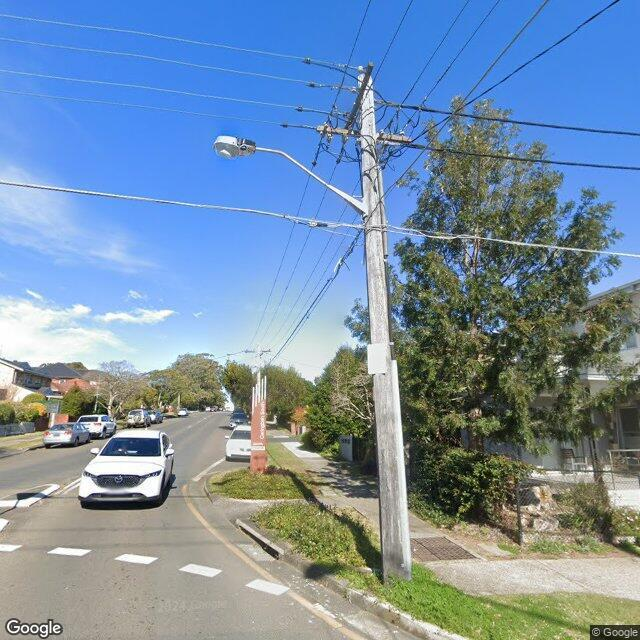crossarm: (316, 123, 412, 147), (343, 63, 373, 134)
streetlight: (212, 133, 366, 217)
timber-pole: (358, 70, 411, 584)
